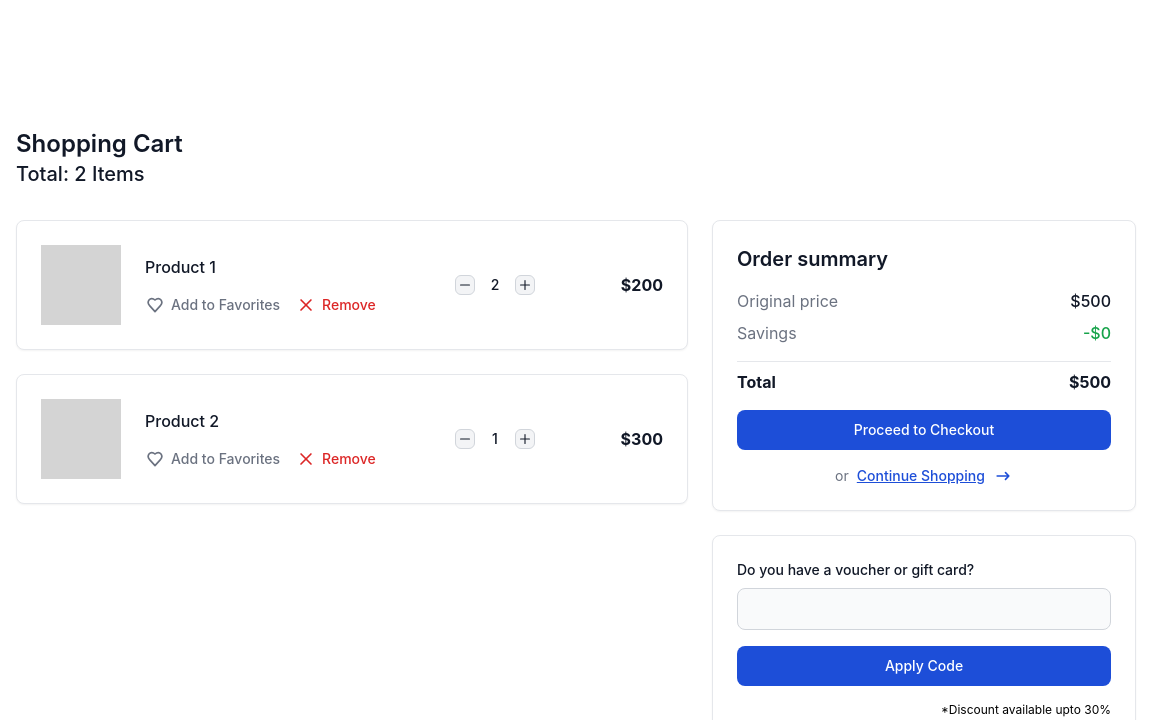
Cart Page › Discount Application › applied discount code sucessfully
Type "10" into the field labelled "Do you have a voucher or gift card?" at (924, 609), box top-left (737, 588), bottom-right (1111, 630)
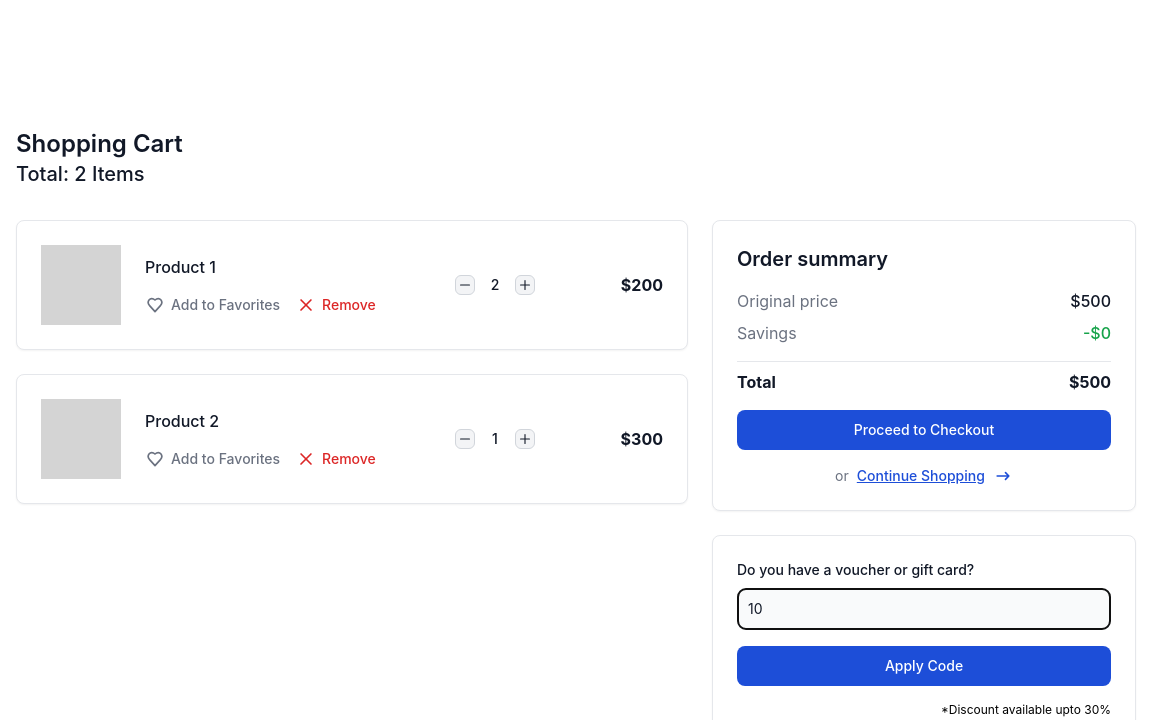
Click the button "Apply Code" at (924, 666), box top-left (737, 646), bottom-right (1111, 686)
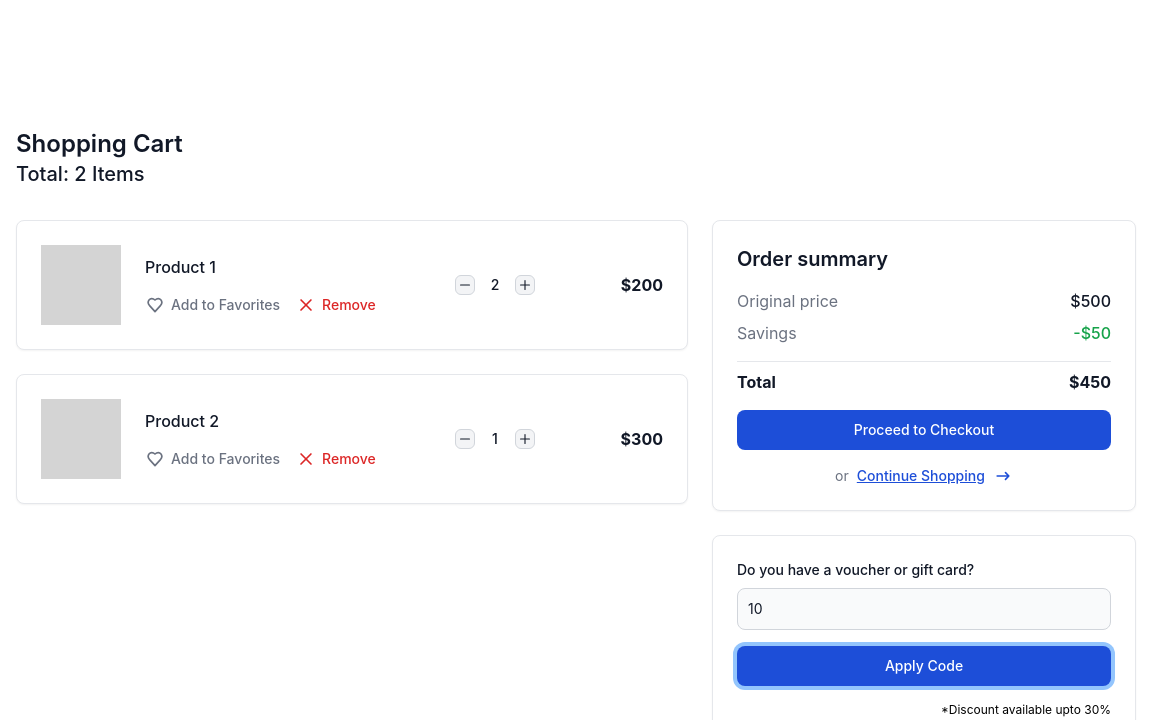
Now the text "$450" is shown, box top-left (1069, 370), bottom-right (1111, 394)
